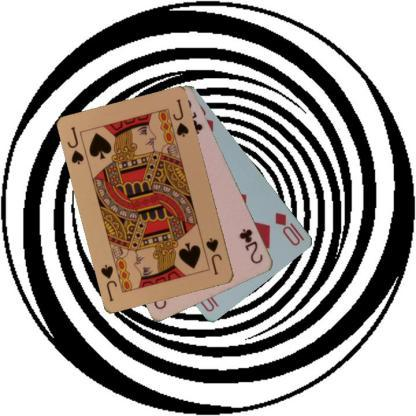10d: (272, 210, 306, 247)
2c: (237, 225, 265, 266)
Js: (64, 124, 86, 166), (204, 235, 224, 276)
